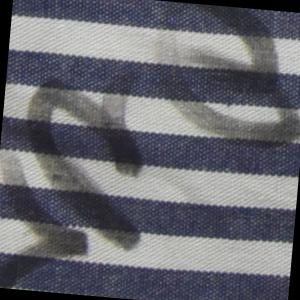Stain: (1, 60, 156, 300), (145, 1, 300, 153)
